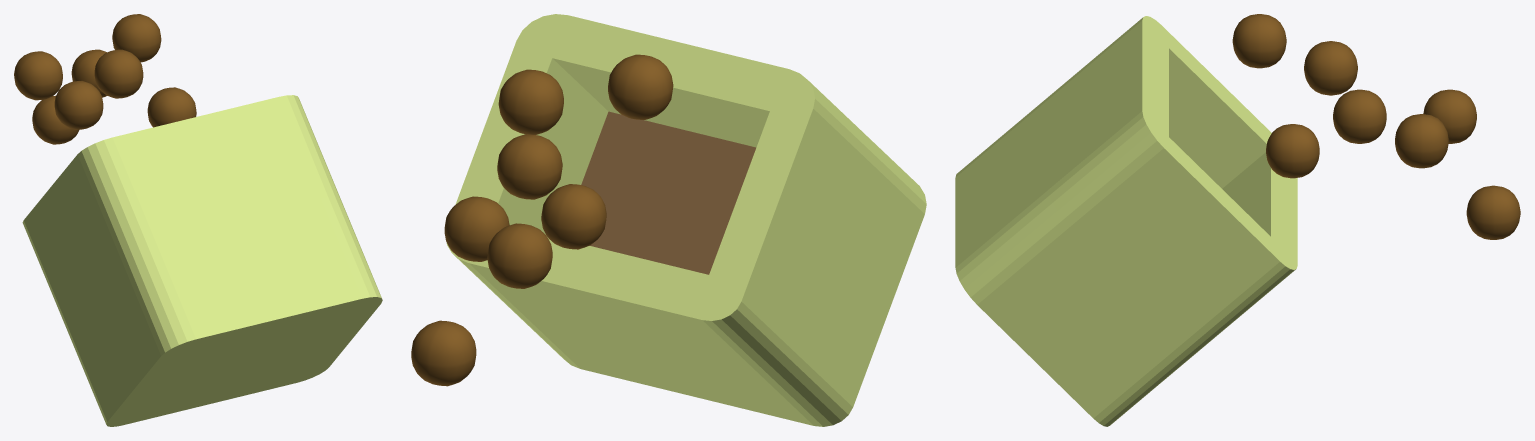
Rendered from Ember Slurry.fbx.
3 renders of one model, left to right at view 1: azimuth 30°, elevation 25°; view 2: azimuth 150°, elevation 25°; view 3: azimuth 270°, elevation 25°, orthographic. The views are drawn at different scales.
Visible parts, largest first — view 1: Gelas Slury; view 2: Gelas Slury; view 3: Gelas Slury.
Part boxes in pixels (bbox=[...]): Gelas Slury: bbox=[14, 14, 382, 426]; Gelas Slury: bbox=[411, 14, 926, 426]; Gelas Slury: bbox=[955, 14, 1520, 426].
Size of the model in its own units: 66.95 by 89.35 by 133.
